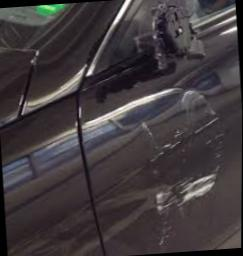Door: (97, 66, 243, 242)
